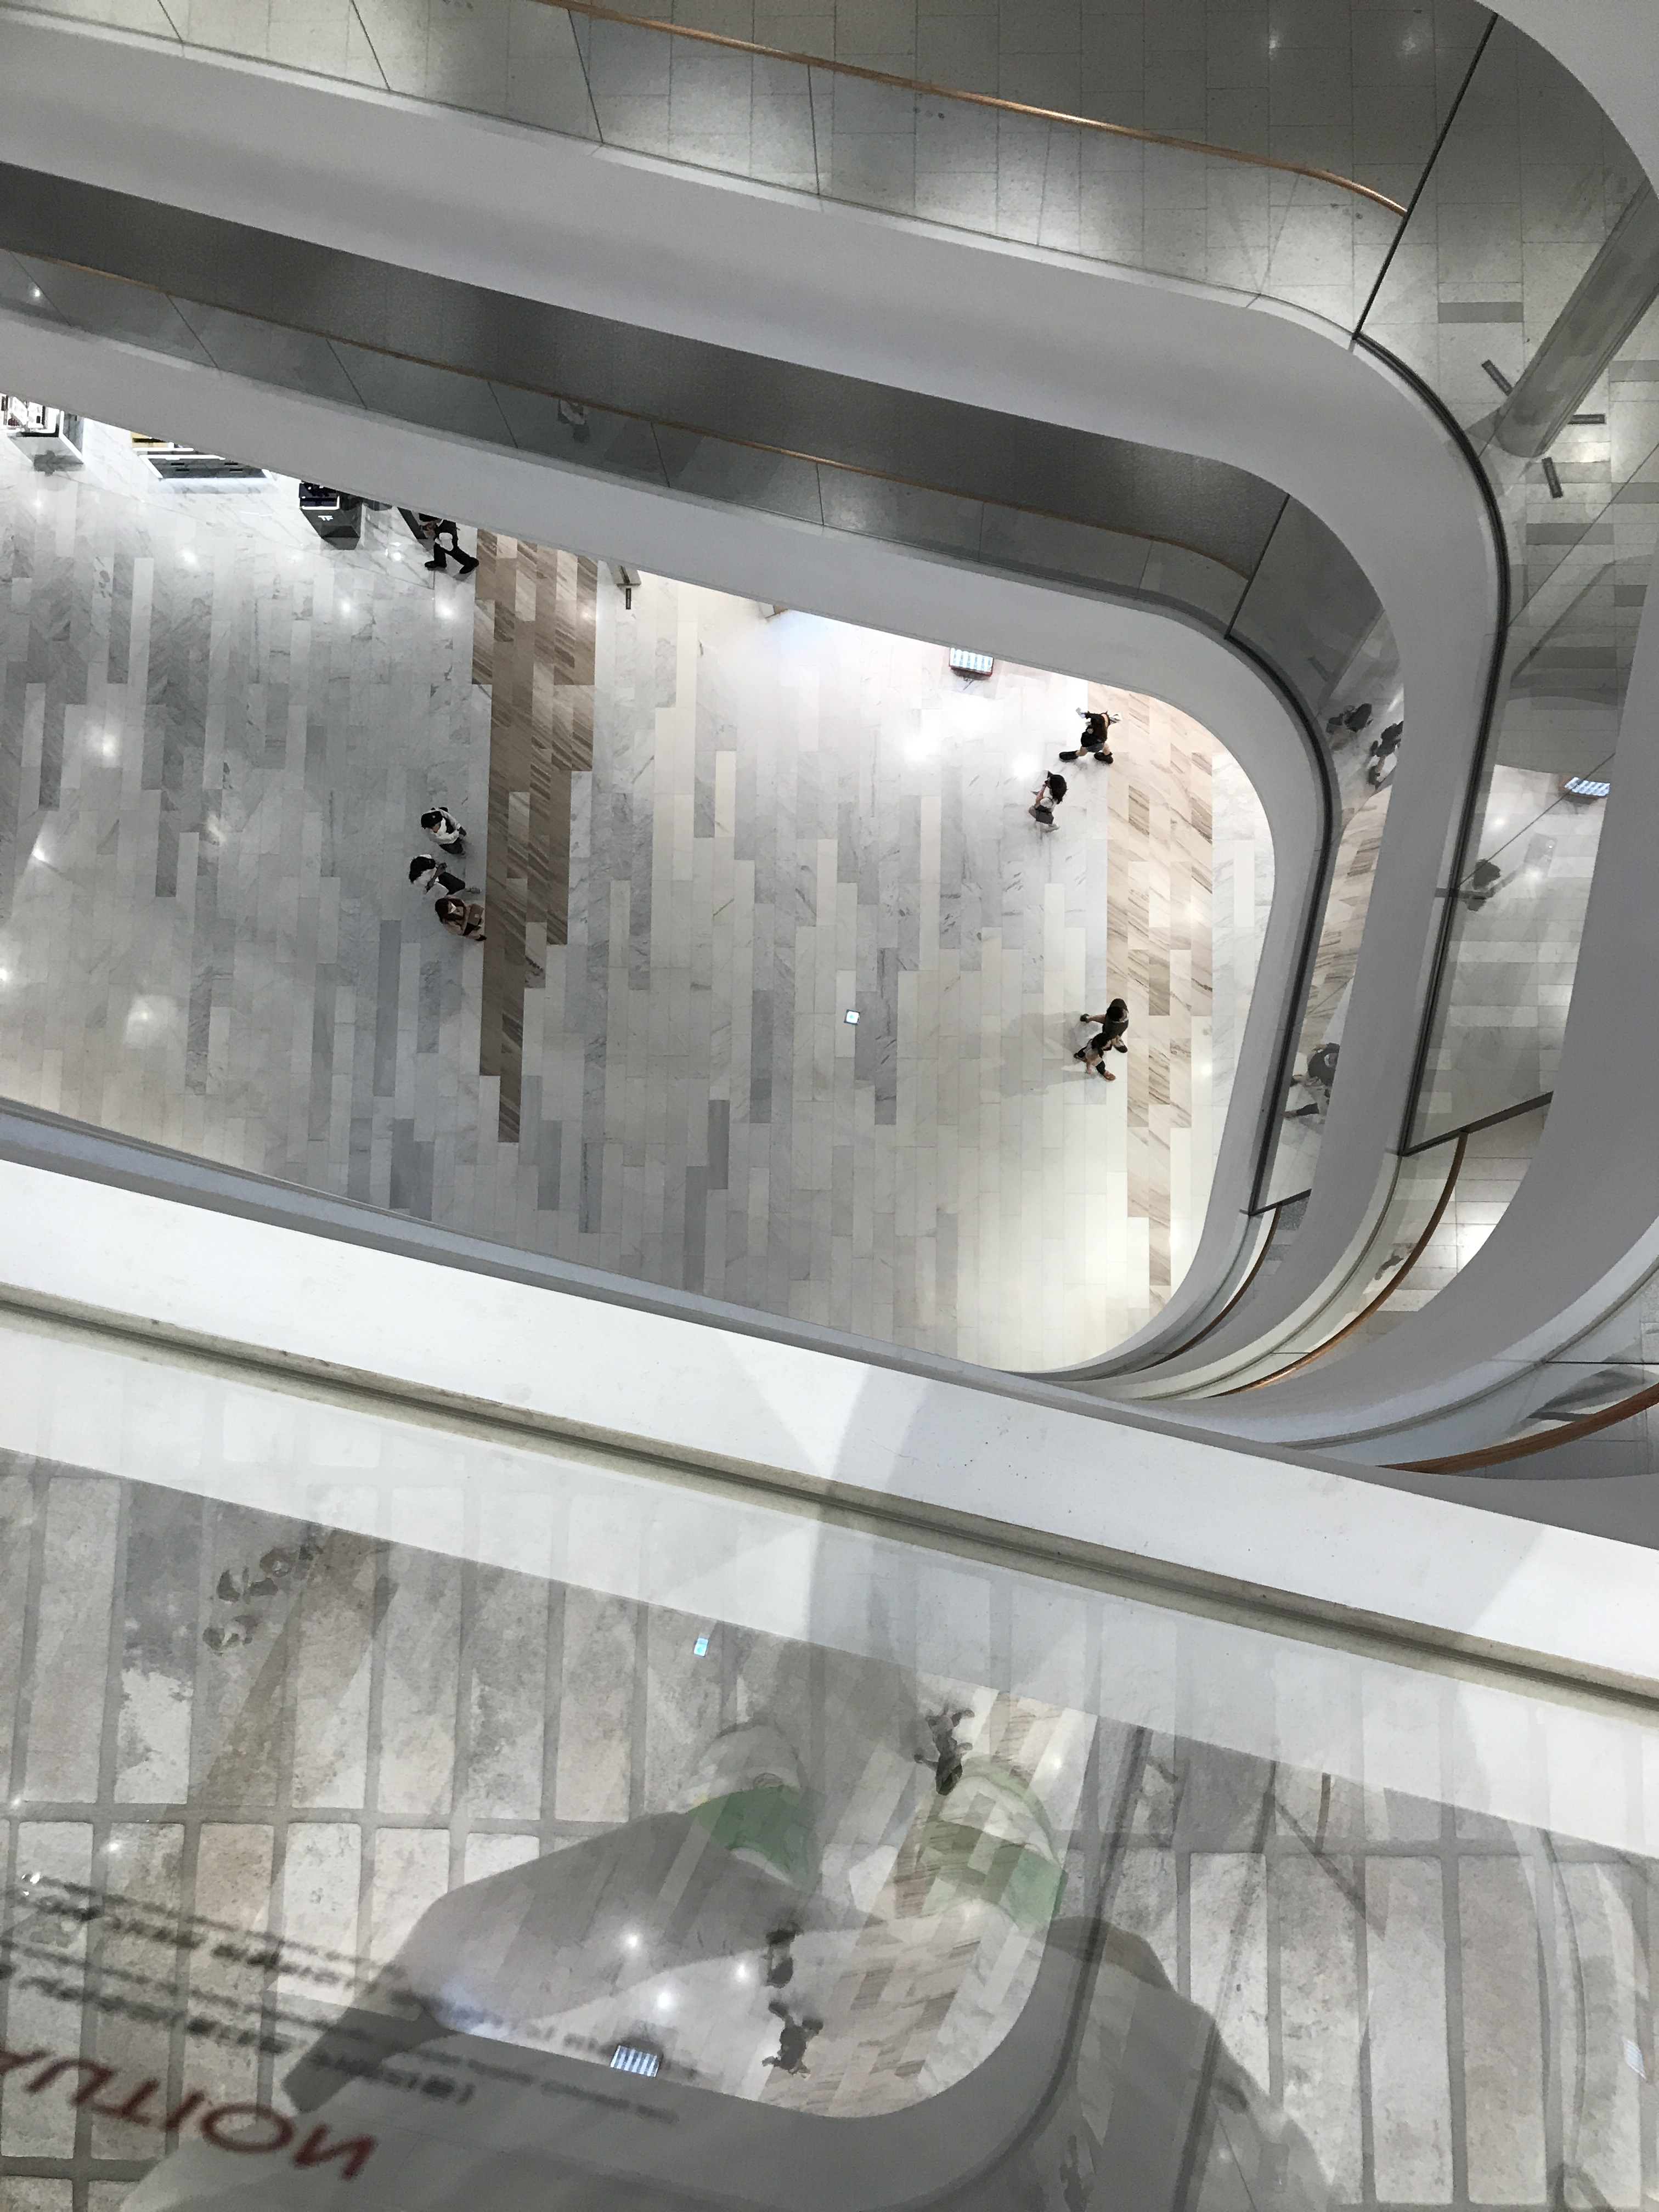person: (1058, 704, 1122, 765), (406, 853, 480, 901), (1080, 995, 1131, 1054), (420, 805, 472, 858), (436, 896, 490, 947), (1026, 769, 1068, 833), (1070, 1030, 1118, 1083)
